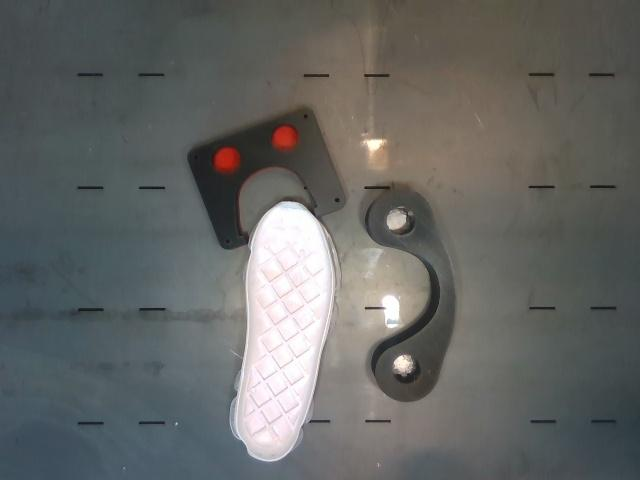shoes: (237, 202, 333, 459)
